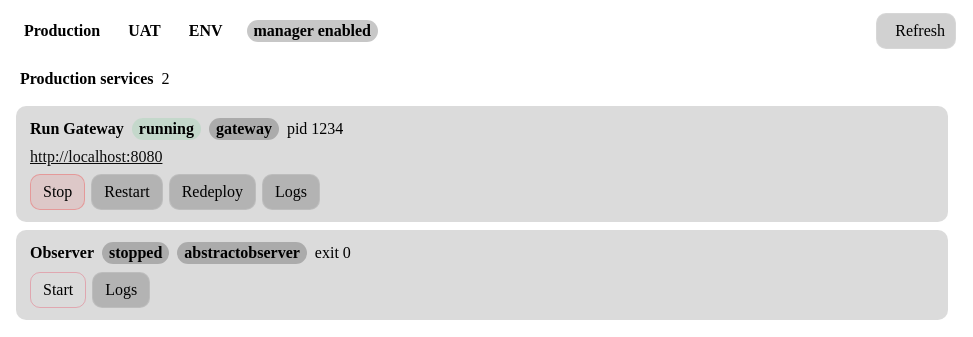
ProcessesPage › shows UAT processes on the UAT tab
The width and height of the screenshot is (973, 337).
Expected: the text "Run Gateway" is shown, [30, 120, 124, 138]
Click the button "UAT": {"x": 144, "y": 31} [115, 15, 174, 47]
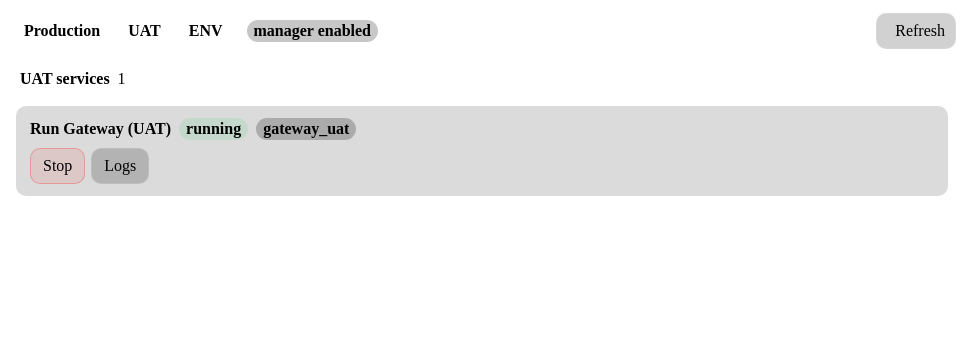
Expected: the text "Run Gateway (UAT)" is shown, [30, 120, 171, 138]
Expected: the text "Observer" is gone
